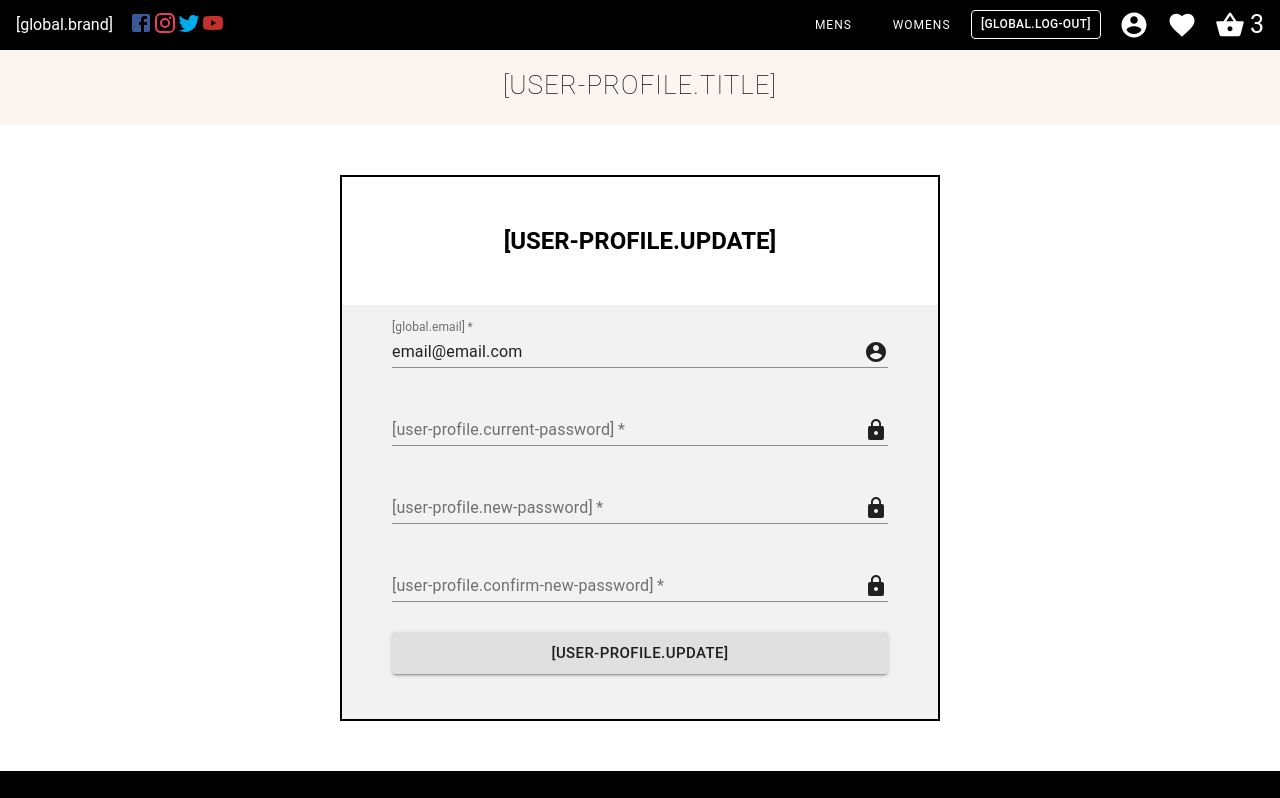
Test: UserProfile › should show new password error message
The image size is (1280, 798).
Type "currentPassword" into the password field labelled "[user-profile.current-password] *". click: (624, 430)
box: x1=392 y1=414 x2=856 y2=446
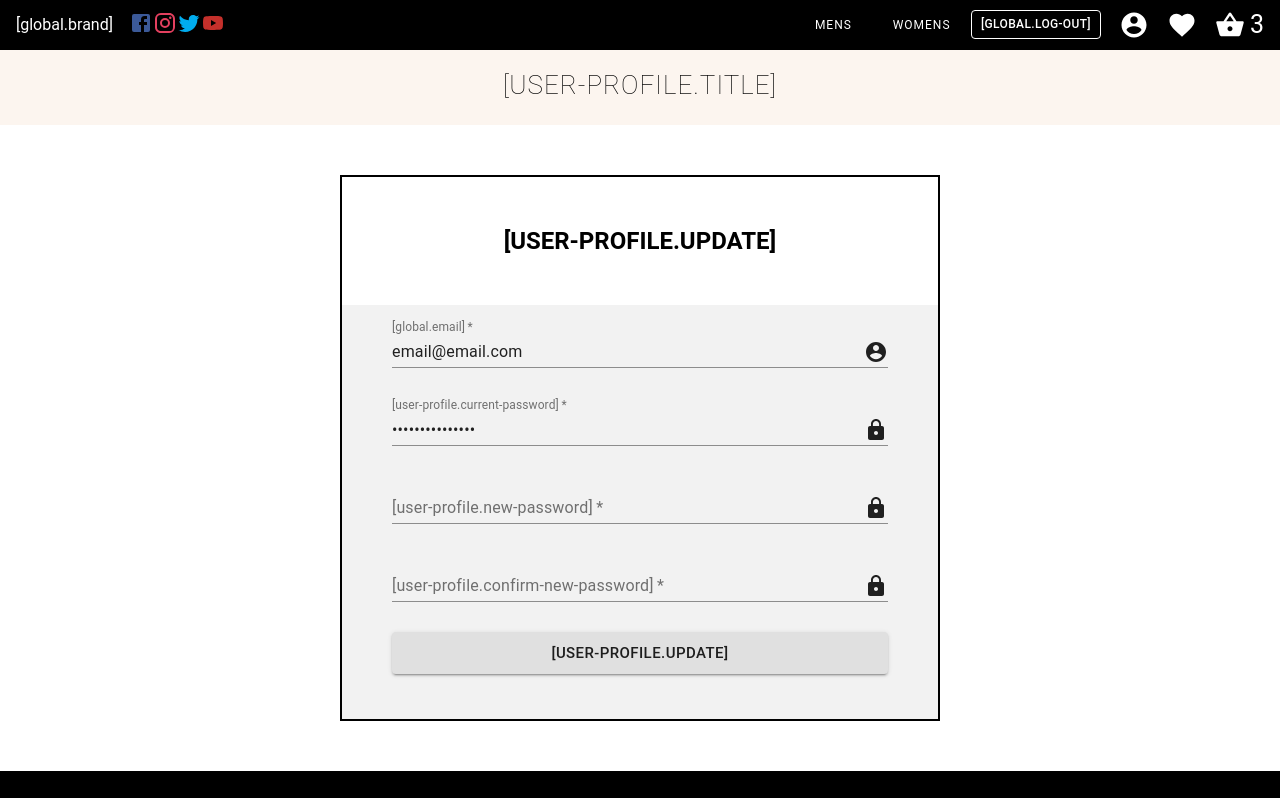
Type "currentPassword" into the password field labelled "[user-profile.new-password] *". click: (624, 508)
box: x1=392 y1=492 x2=856 y2=524
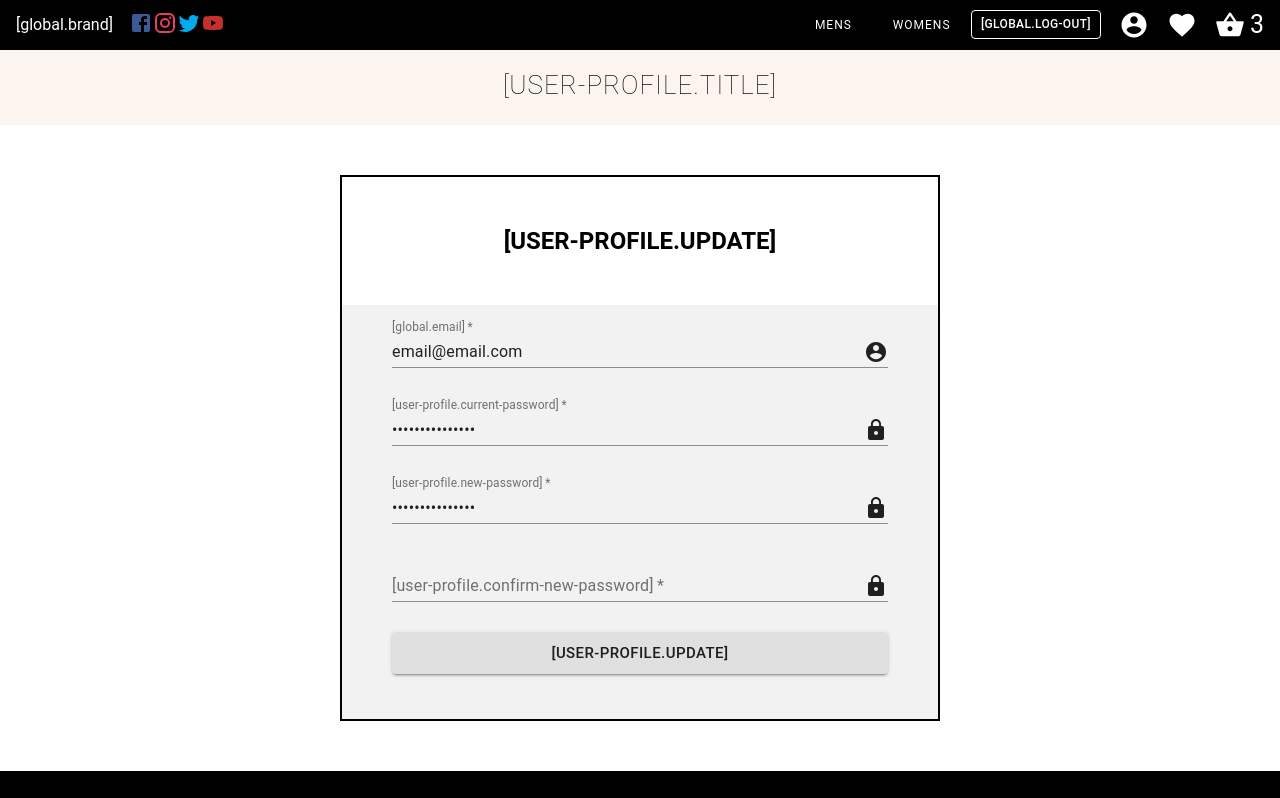
Type "currentPassword" into the password field labelled "[user-profile.confirm-new-password] *". click: (624, 586)
box: x1=392 y1=570 x2=856 y2=602
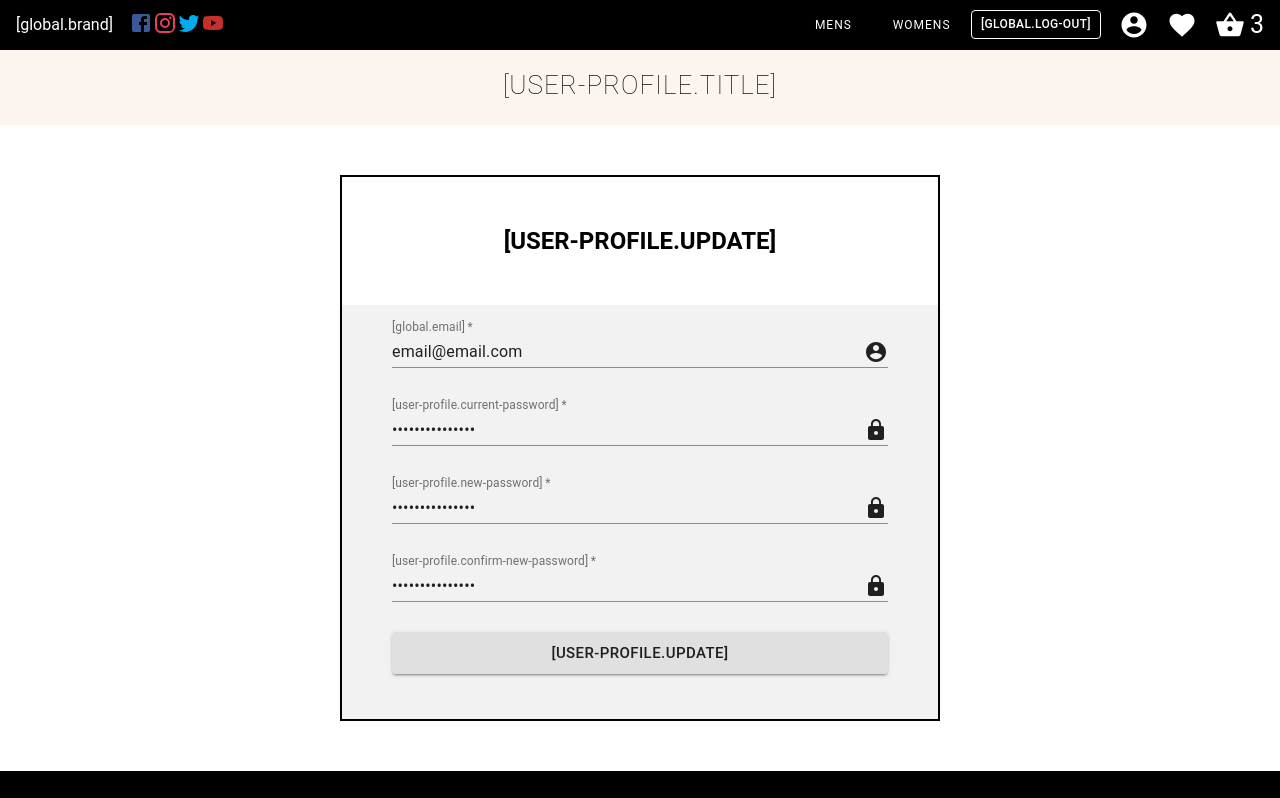
Click the button "[user-profile.update]". click: (640, 653)
box: x1=392 y1=632 x2=888 y2=674
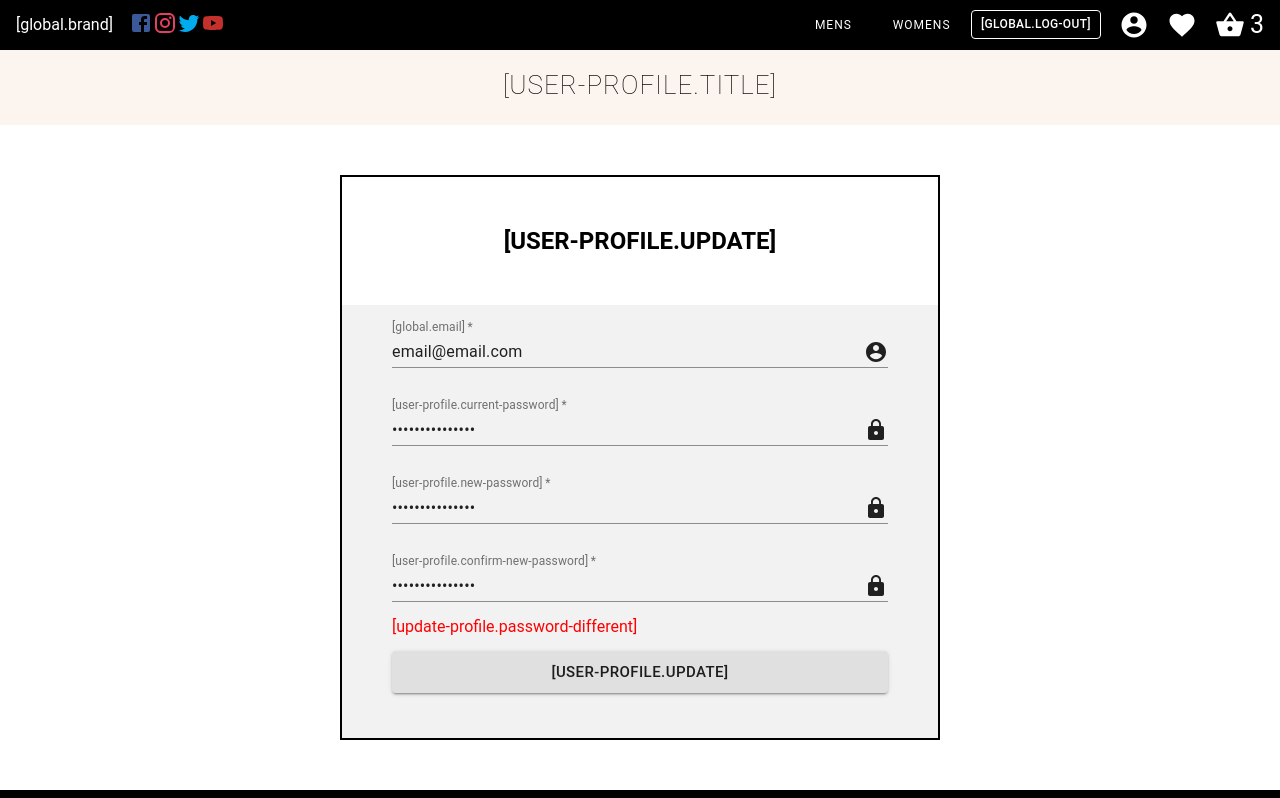
Check: the text with class "user-profile__error" reads "[update-profile.password-different]", box x1=392 y1=617 x2=637 y2=636
